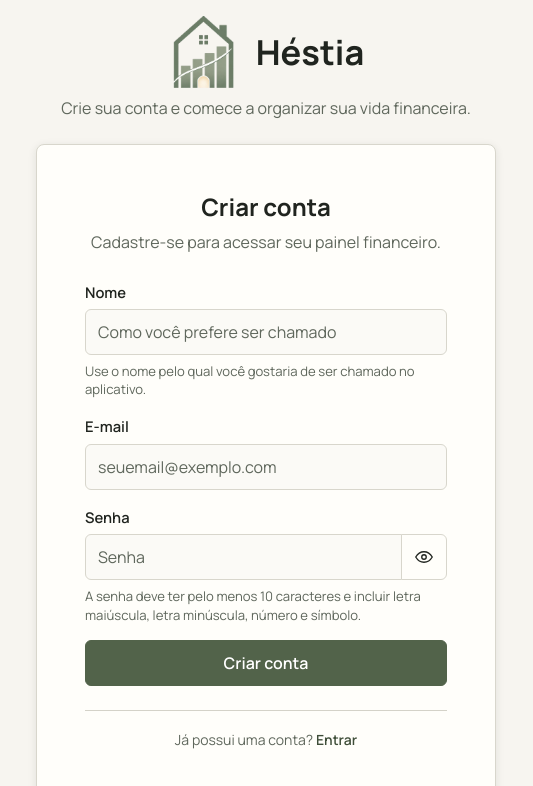
Test: Register page › redirects an existing email to account recovery
This screenshot has width=533, height=786.
In the field with id "register-name": (266, 332) [85,309,447,355], type "Benjamin"
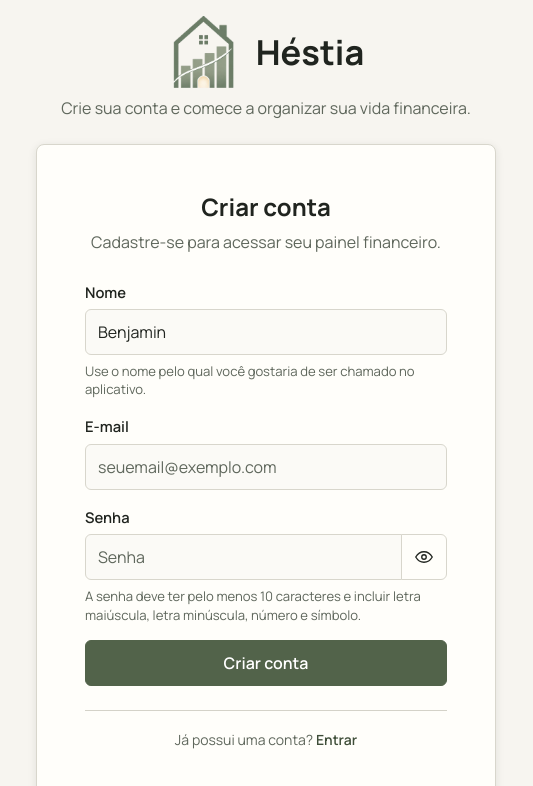
In the field with id "register-email": (266, 467) [85,444,447,490], type "BENJAMIN@EXAMPLE.COM"
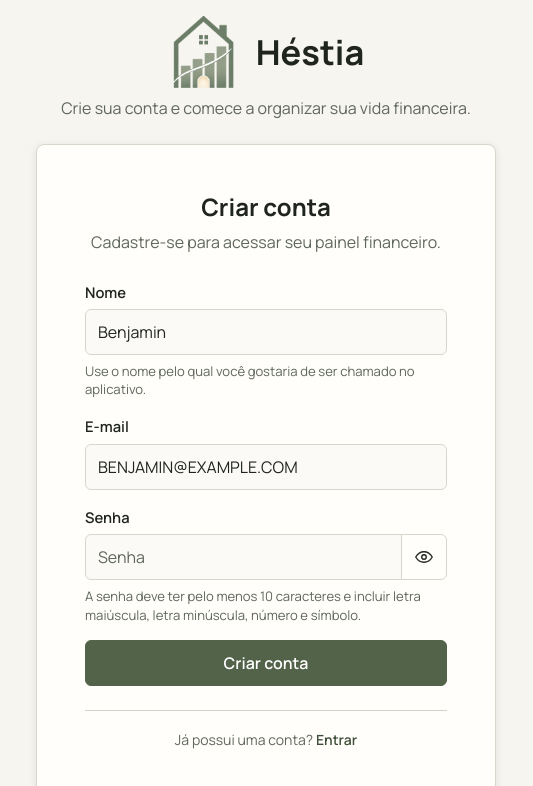
In the password field with id "register-password": (244, 557) [85,534,402,580], type "SenhaSegura123!"
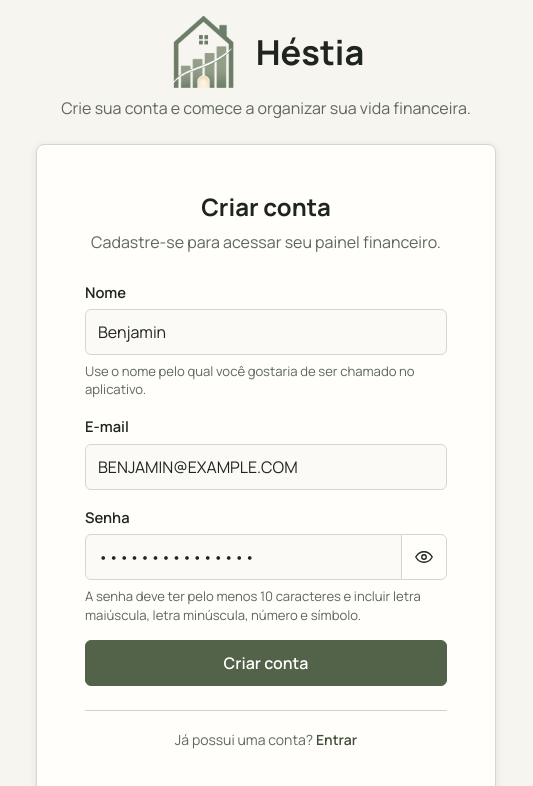
Click the button "Criar conta": (266, 663) [85,640,447,686]
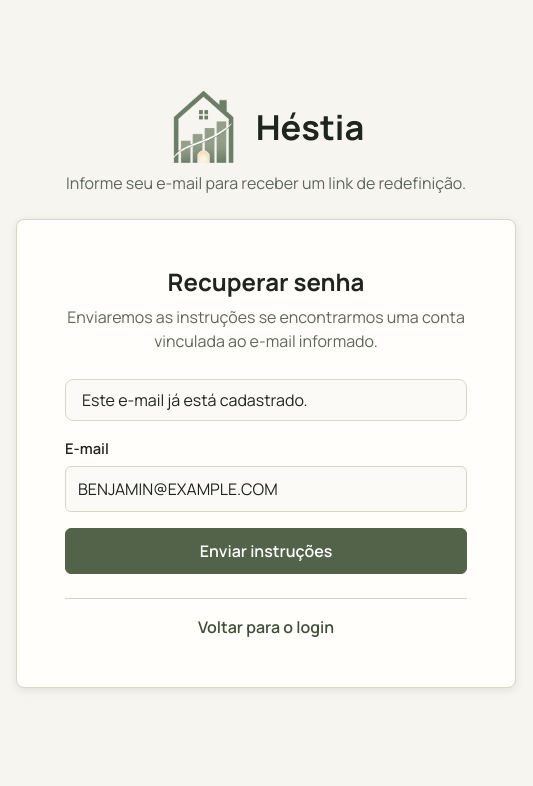
Result: the heading "Recuperar senha" is shown at [168,265,364,298]
Result: the text "Este e-mail já está cadastrado." is shown at [65,379,467,421]
Result: the field labelled "E-mail" holds "BENJAMIN@EXAMPLE.COM" at [65,466,467,512]
